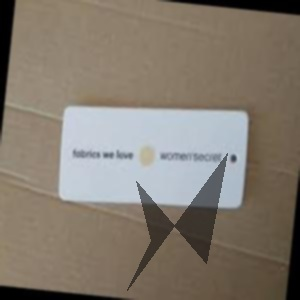women_secret: (144, 72, 300, 217)
